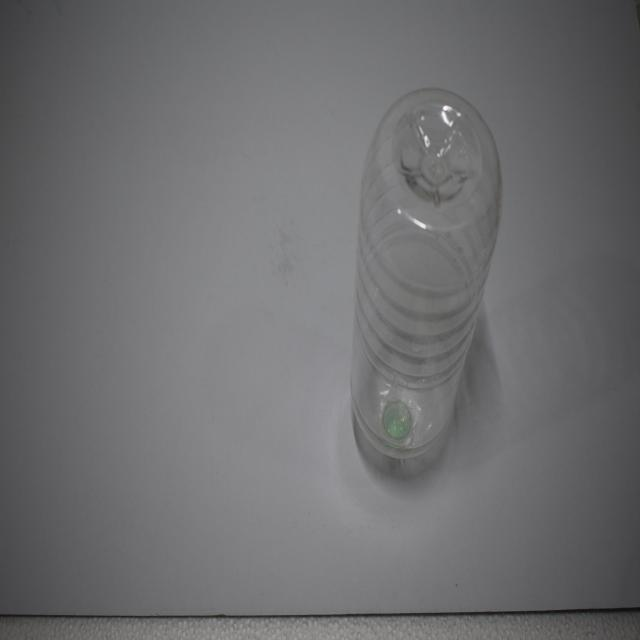bottle: (342, 63, 508, 513)
